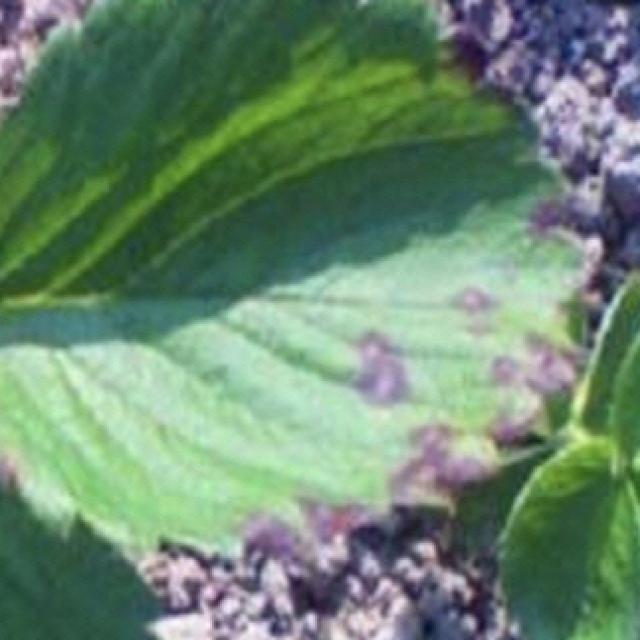Leaf Spot: (0, 0, 607, 564)
